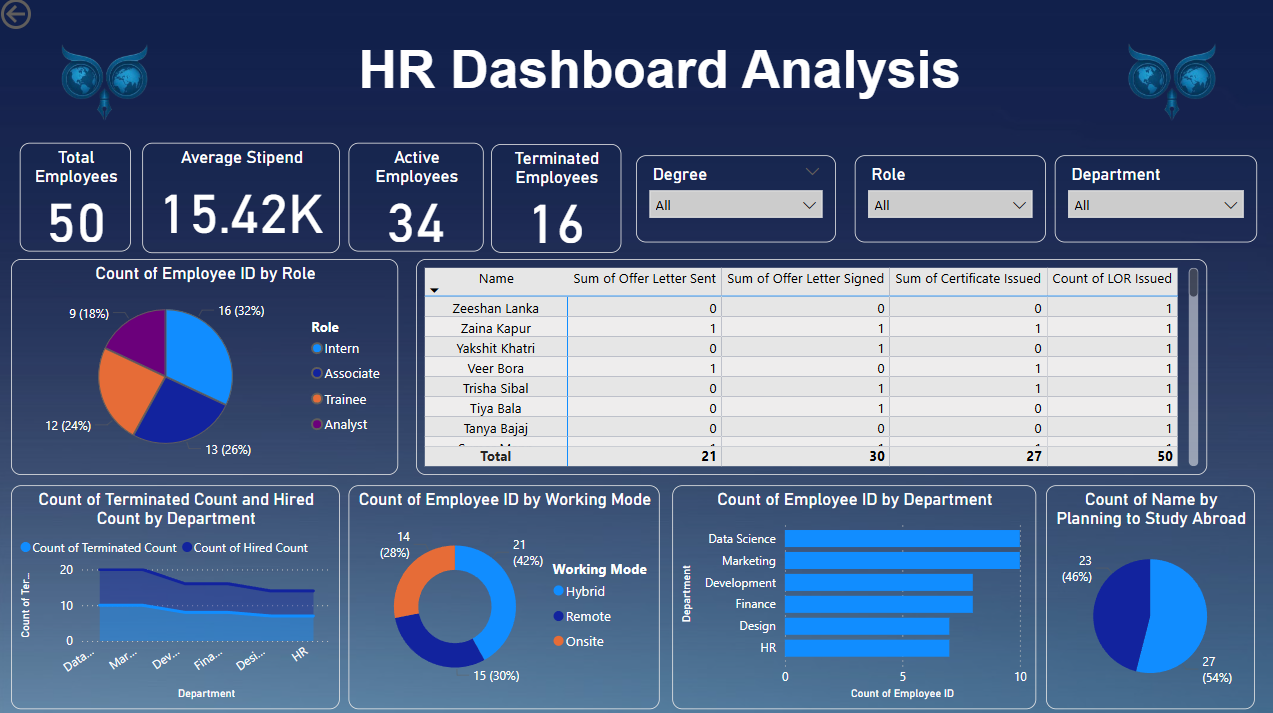

The dashboard page shown, as its layout file describes it:
{"tool":"powerbi","page":{"name":"Page 1","canvas":[1280,720],"ordinal":0},"visuals":[{"type":"pieChart","fields":{"Y":["Cleaned_Intern_Dataset.Employee ID"],"Category":["Cleaned_Intern_Dataset.Role"]},"box":[15,265,387.5,216.2],"z":0},{"type":"pieChart","fields":{"Category":["Cleaned_Intern_Dataset.Planning to Study Abroad"],"Y":["Cleaned_Intern_Dataset.Name"]},"box":[1050,491.2,208.8,223.8],"z":1000},{"type":"card","title":"Active Employees","fields":{"Values":["Cleaned_Intern_Dataset.Active Employees"]},"box":[352.5,148.8,135,108.8],"z":2000},{"type":"stackedAreaChart","title":"Count of Terminated Count and Hired Count by Department","fields":{"Category":["Cleaned_Intern_Dataset.Department"],"Y":["Cleaned_Intern_Dataset.Terminated Count","Cleaned_Intern_Dataset.Hired Count"]},"box":[15,491.2,328.8,223.8],"z":3000},{"type":"card","title":"Terminated Employees","fields":{"Values":["Cleaned_Intern_Dataset.Terminated Employees"]},"box":[495,150,130,108.8],"z":4000},{"type":"donutChart","fields":{"Category":["Cleaned_Intern_Dataset.Working Mode"],"Y":["Cleaned_Intern_Dataset.Employee ID"]},"box":[352.5,491.2,311.2,223.8],"z":5000},{"type":"card","title":"Total Employees","fields":{"Values":["Cleaned_Intern_Dataset.Employee ID"]},"box":[23.8,148.8,111.2,108.8],"z":6000},{"type":"card","title":"Average Stipend","fields":{"Values":["Cleaned_Intern_Dataset.Stipend"]},"box":[146.2,148.8,197.5,110],"z":7000},{"type":"barChart","fields":{"Category":["Cleaned_Intern_Dataset.Department"],"Y":["Cleaned_Intern_Dataset.Employee ID"]},"box":[676.2,491.2,363.8,223.8],"z":8000},{"type":"pivotTable","fields":{"Rows":["Cleaned_Intern_Dataset.Name"],"Values":["Cleaned_Intern_Dataset.Offer Letter Sent","Cleaned_Intern_Dataset.Offer Letter Signed","Cleaned_Intern_Dataset.Certificate Issued","Cleaned_Intern_Dataset.LOR Issued"]},"box":[420,265,791.2,216.2],"z":9000},{"type":"actionButton","box":[0,0,100,40],"z":10000},{"type":"slicer","fields":{"Values":["Cleaned_Intern_Dataset.Department"]},"box":[1058.8,161.2,202.5,87.5],"z":11000},{"type":"slicer","fields":{"Values":["Cleaned_Intern_Dataset.Role"]},"box":[858.8,161.2,191.2,87.5],"z":12000},{"type":"slicer","fields":{"Values":["Cleaned_Intern_Dataset.Degree"]},"box":[640,161.2,200,87.5],"z":13000},{"type":"textbox","box":[190,40,947.5,71.2],"z":14000},{"type":"image","box":[1092.5,0,166.2,163.8],"z":15000},{"type":"image","box":[26.2,0,163.8,163.8],"z":16000}]}

Visuals, with their boxes in screenshot pixels (x1, y1, x2, y2), scaled from the page's 1280x720 canvas onto the 1273x713 screenshot:
pieChart - Cleaned_Intern_Dataset.Employee ID x Cleaned_Intern_Dataset.Role: bbox=(15, 262, 400, 477)
pieChart - Cleaned_Intern_Dataset.Planning to Study Abroad x Cleaned_Intern_Dataset.Name: bbox=(1044, 486, 1252, 708)
"Active Employees" card: bbox=(351, 147, 485, 255)
"Count of Terminated Count and Hired Count by Department" stackedAreaChart: bbox=(15, 486, 342, 708)
"Terminated Employees" card: bbox=(492, 149, 622, 256)
donutChart - Cleaned_Intern_Dataset.Working Mode x Cleaned_Intern_Dataset.Employee ID: bbox=(351, 486, 660, 708)
"Total Employees" card: bbox=(24, 147, 134, 255)
"Average Stipend" card: bbox=(145, 147, 342, 256)
barChart - Cleaned_Intern_Dataset.Department x Cleaned_Intern_Dataset.Employee ID: bbox=(673, 486, 1034, 708)
pivotTable - Cleaned_Intern_Dataset.Name x Cleaned_Intern_Dataset.Offer Letter Sent: bbox=(418, 262, 1205, 477)
actionButton: bbox=(0, 0, 99, 40)
slicer - Cleaned_Intern_Dataset.Department: bbox=(1053, 160, 1254, 246)
slicer - Cleaned_Intern_Dataset.Role: bbox=(854, 160, 1044, 246)
slicer - Cleaned_Intern_Dataset.Degree: bbox=(636, 160, 835, 246)
textbox: bbox=(189, 40, 1131, 110)
image: bbox=(1087, 0, 1252, 162)
image: bbox=(26, 0, 189, 162)
